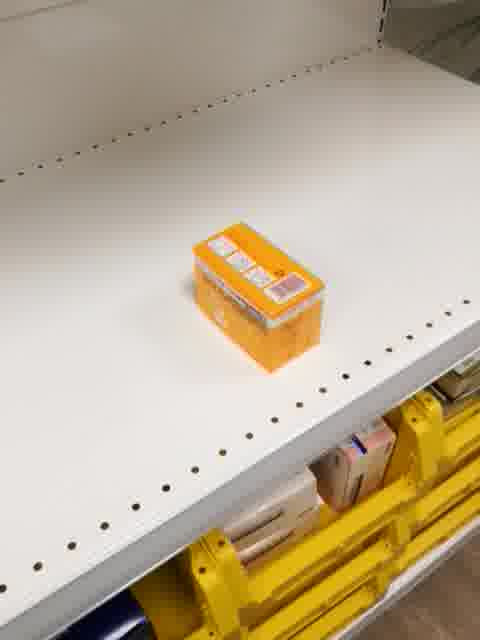jasminetea: (190, 220, 326, 372)
